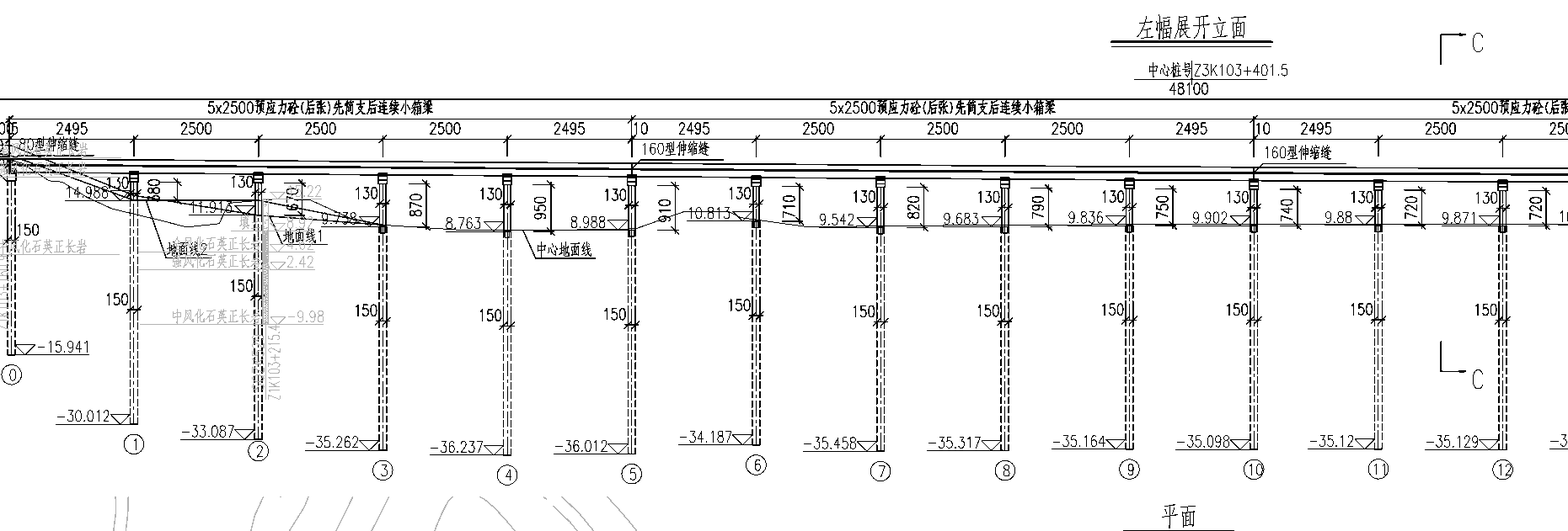C: (797, 167, 903, 490), (426, 166, 530, 491), (922, 168, 1027, 487), (673, 167, 778, 483), (1047, 168, 1151, 486), (1420, 172, 1524, 487), (1173, 168, 1275, 488), (551, 167, 652, 490), (304, 165, 405, 485), (1303, 169, 1399, 488), (178, 166, 279, 467), (59, 184, 153, 462)
